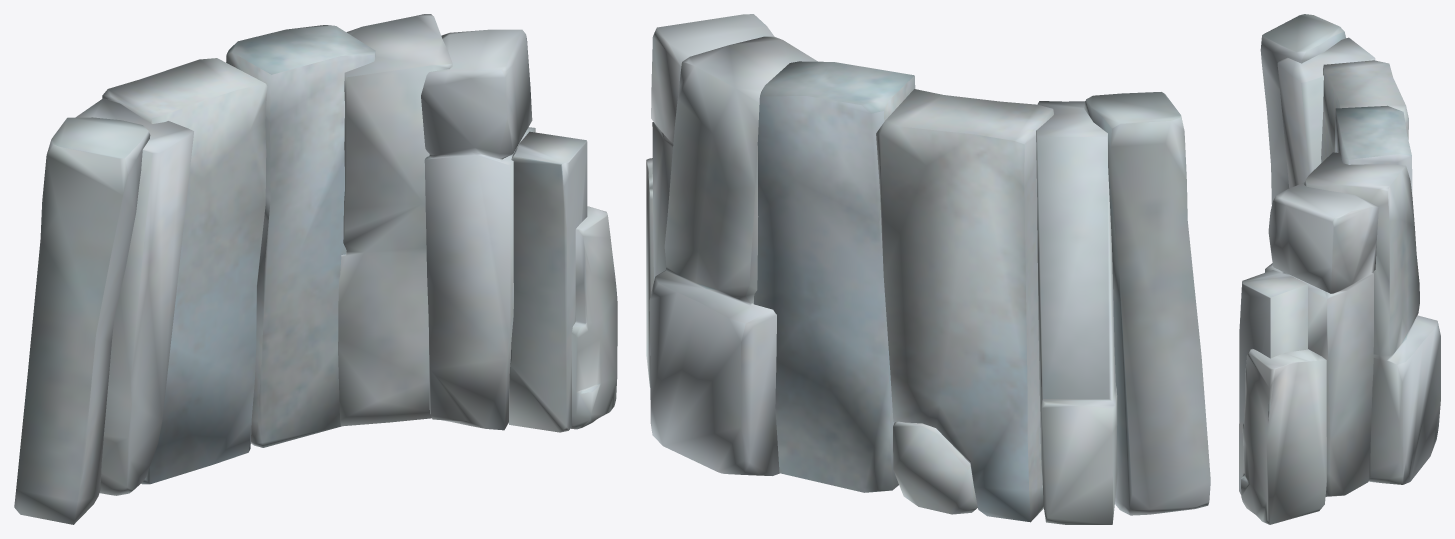
The model's file is P_CubicCliff08.obj.
3 renders of one model, left to right at view 1: azimuth 30°, elevation 25°; view 2: azimuth 150°, elevation 25°; view 3: azimuth 270°, elevation 25°, orthographic. The views are drawn at different scales.
Size of the model in its own units: 33.72 by 21.42 by 12.87.
